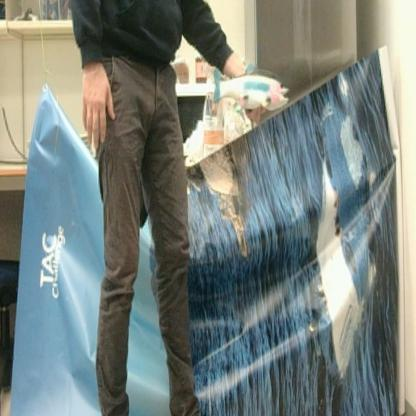rubberfish: (210, 61, 290, 116)
